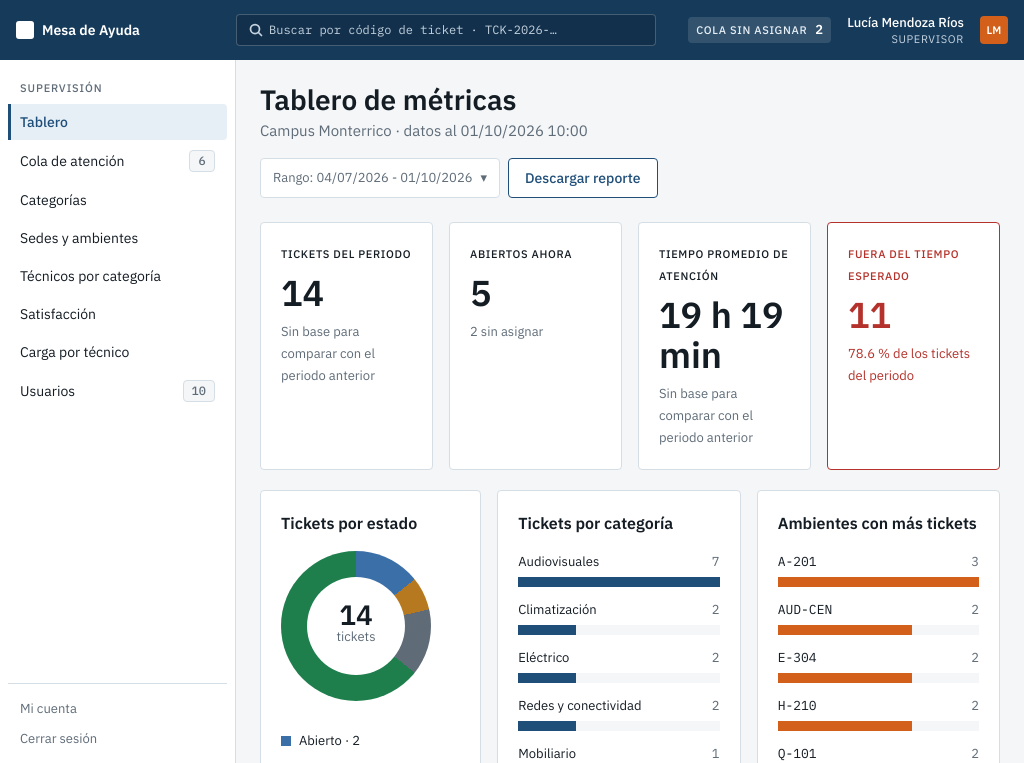
Test: AppLayout · buscador de la cabecera › al supervisor lo lleva a su lista de tickets (/supervisor → Cola de atención)
Expected: the text "Cola sin asignar" is shown, [696,22,807,38]
Type "TCK-2026-00144" into the field named "Buscar ticket por código".
click(446, 30); type("TCK-2026-00144")  # box [236,14,656,46]
Then press Enter
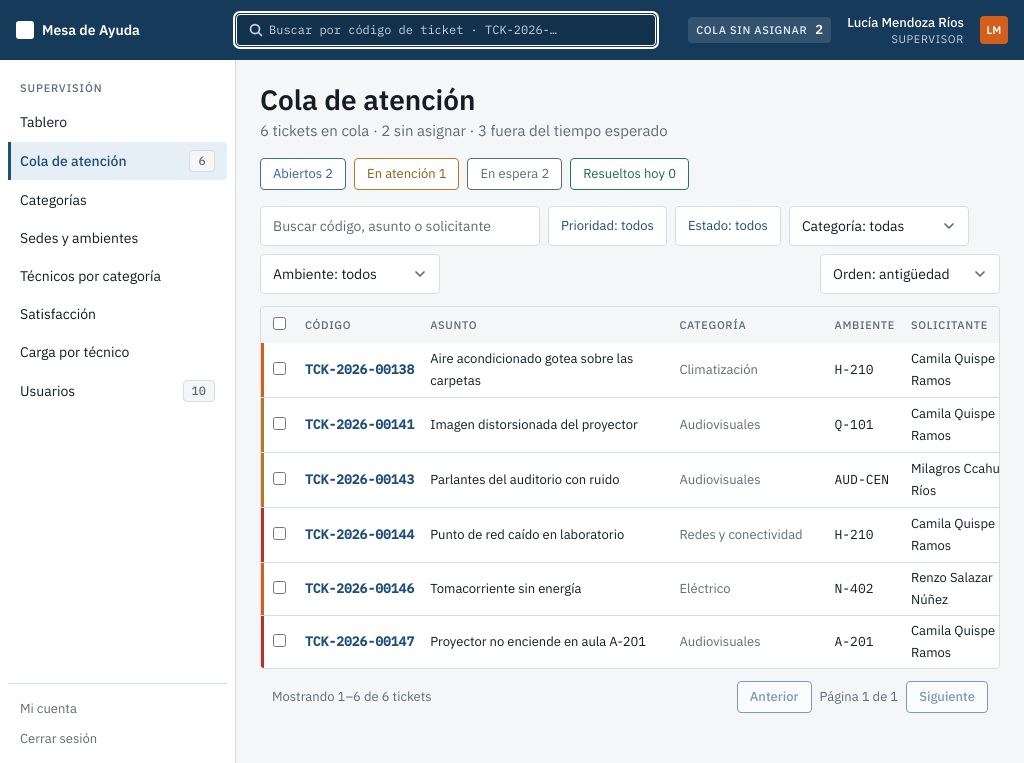
Now the heading "Cola de atención" is shown, box [260,81,476,118]
Now the link "TCK-2026-00144" is shown, box [305,526,414,543]
